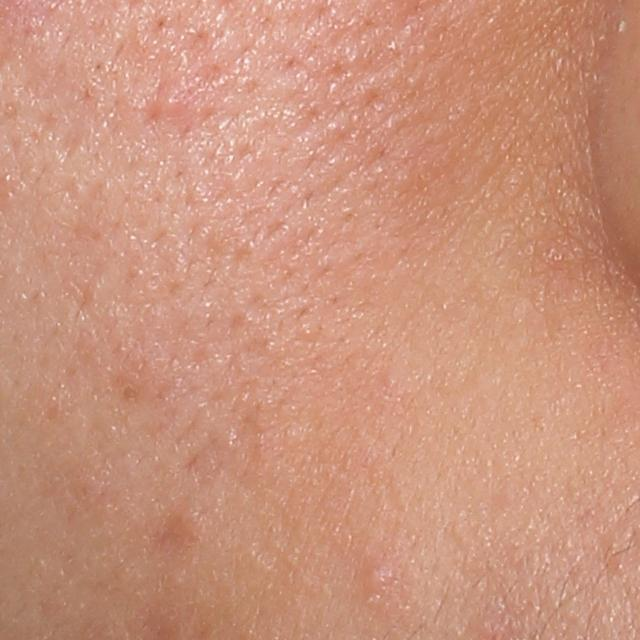papule: (364, 561, 398, 595), (156, 86, 186, 118)
